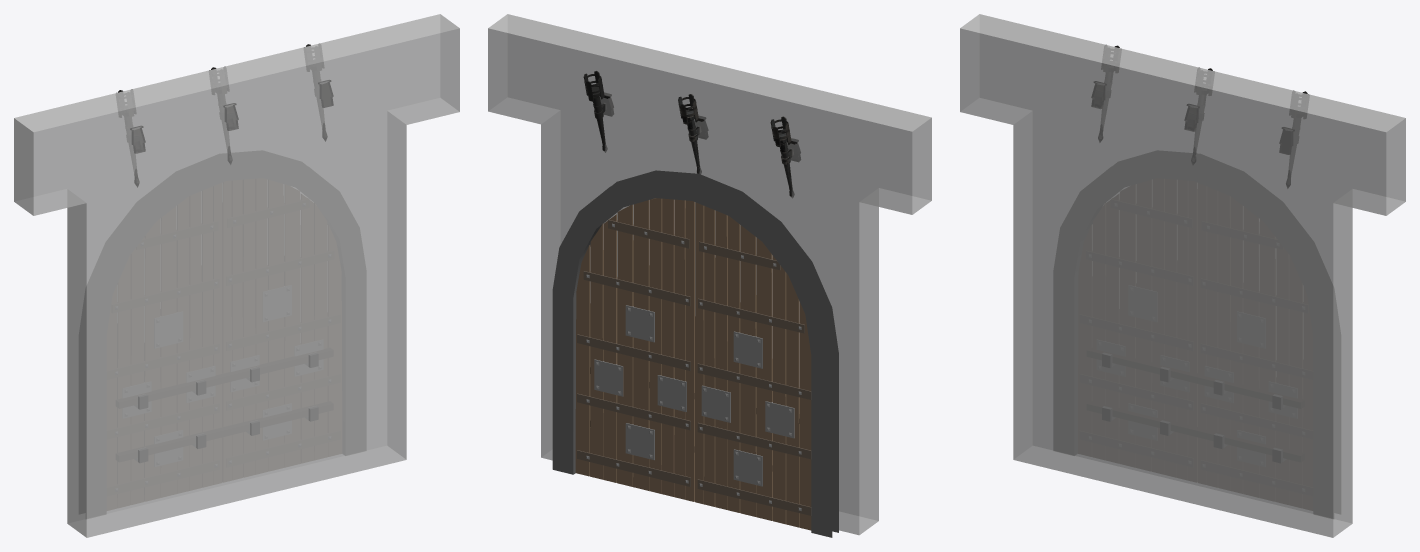
Rendered from gate1.fbx.
3 renders of one model, left to right at view 1: azimuth 30°, elevation 25°; view 2: azimuth 150°, elevation 25°; view 3: azimuth 330°, elevation 25°, orthographic.
Parts seen in each view (by area): view 1: torch2.003; view 2: torch2.003; view 3: torch2.003.
Boxes of the visible parts, <box> form: torch2.003: <box>14,14,459,537</box>; torch2.003: <box>488,14,931,537</box>; torch2.003: <box>960,14,1405,537</box>.
Size of the model in its own units: 708 by 667 by 103.
